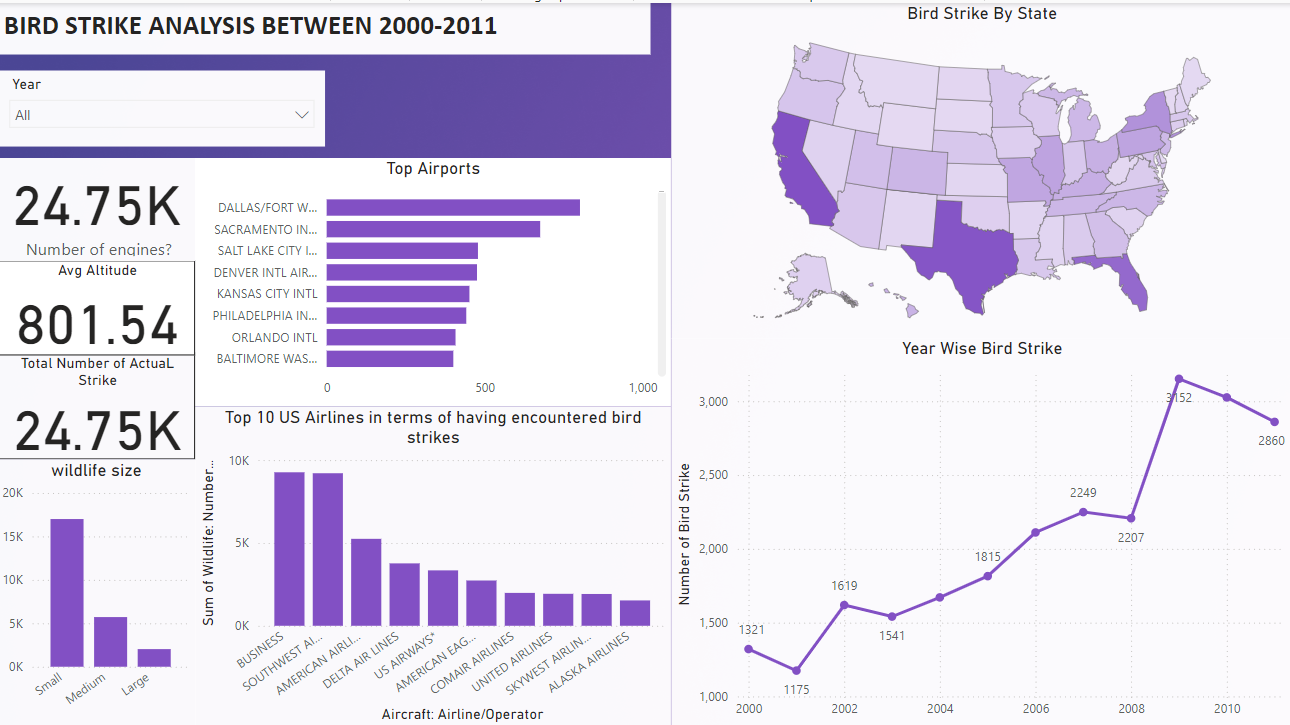

Layout of this report page (visuals, bound fields, positions):
{"tool":"powerbi","page":{"name":"overview","canvas":[1280,720],"ordinal":0},"visuals":[{"type":"lineChart","title":"Year Wise Bird Strike","fields":{"Category":["correctbirdstrike.FlightDate.Variation.Date Hierarchy.Year"],"Y":["CountNonNull(correctbirdstrike.Wildlife: Number Struck Actual)"]},"box":[671.9,328.2,608.4,380.8],"z":0},{"type":"clusteredColumnChart","title":"Top 10 US Airlines in terms of having encountered bird strikes","fields":{"Category":["correctbirdstrike.Aircraft: Airline/Operator"],"Y":["Sum(correctbirdstrike.Wildlife: Number Struck Actual)"]},"box":[205.9,394.8,466,314.3],"z":1000},{"type":"clusteredBarChart","title":"Top Airports","fields":{"Category":["correctbirdstrike.Airport: Name"],"Y":["CountNonNull(correctbirdstrike.Wildlife: Number Struck Actual)"]},"box":[205.9,151.7,466,243.1],"z":2000},{"type":"shapeMap","title":"Bird Strike By State","fields":{"Category":["correctbirdstrike.Origin State"],"Value":["CountNonNull(correctbirdstrike.Wildlife: Number Struck Actual)"]},"box":[671.7,0,608.6,328.1],"z":3000},{"type":"card","title":"Total Number of ActuaL Strike","fields":{"Values":["CountNonNull(correctbirdstrike.Wildlife: Number Struck Actual)"]},"box":[13.9,342.1,192,103.7],"z":4000},{"type":"card","title":"Avg Altitude","fields":{"Values":["Avg(correctbirdstrike.Feet above ground)"]},"box":[13.9,252.3,192,92.9],"z":5000},{"type":"textbox","box":[14.1,0,637.5,50],"z":7000},{"type":"slicer","fields":{"Values":["correctbirdstrike.FlightDate.Variation.Date Hierarchy.Year"]},"box":[13.9,66.6,318.9,74.3],"z":9001},{"type":"card","fields":{"Values":["CountNonNull(correctbirdstrike.Aircraft: Number of engines?)"]},"box":[13.9,151.7,192,100.6],"z":9002},{"type":"columnChart","title":"wildlife size","fields":{"Category":["correctbirdstrike.Wildlife: Size"],"Y":["CountNonNull(correctbirdstrike.Wildlife: Number Struck Actual)"]},"box":[12.4,445.9,193.5,263.2],"z":9003}]}

Visuals, with their boxes in screenshot pixels (x1, y1, x2, y2), scaled from the page's 1280x720 canvas onto the 1290x725 screenshot:
"Year Wise Bird Strike" lineChart: {"x1": 677, "y1": 330, "x2": 1289, "y2": 714}
"Top 10 US Airlines in terms of having encountered bird strikes" clusteredColumnChart: {"x1": 208, "y1": 398, "x2": 677, "y2": 714}
"Top Airports" clusteredBarChart: {"x1": 208, "y1": 153, "x2": 677, "y2": 398}
"Bird Strike By State" shapeMap: {"x1": 677, "y1": 0, "x2": 1289, "y2": 330}
"Total Number of ActuaL Strike" card: {"x1": 14, "y1": 344, "x2": 208, "y2": 449}
"Avg Altitude" card: {"x1": 14, "y1": 254, "x2": 208, "y2": 348}
textbox: {"x1": 14, "y1": 0, "x2": 657, "y2": 50}
slicer - correctbirdstrike.FlightDate.Variation.Date Hierarchy.Year: {"x1": 14, "y1": 67, "x2": 335, "y2": 142}
card - CountNonNull(correctbirdstrike.Aircraft: Number of engines?): {"x1": 14, "y1": 153, "x2": 208, "y2": 254}
"wildlife size" columnChart: {"x1": 12, "y1": 449, "x2": 208, "y2": 714}
